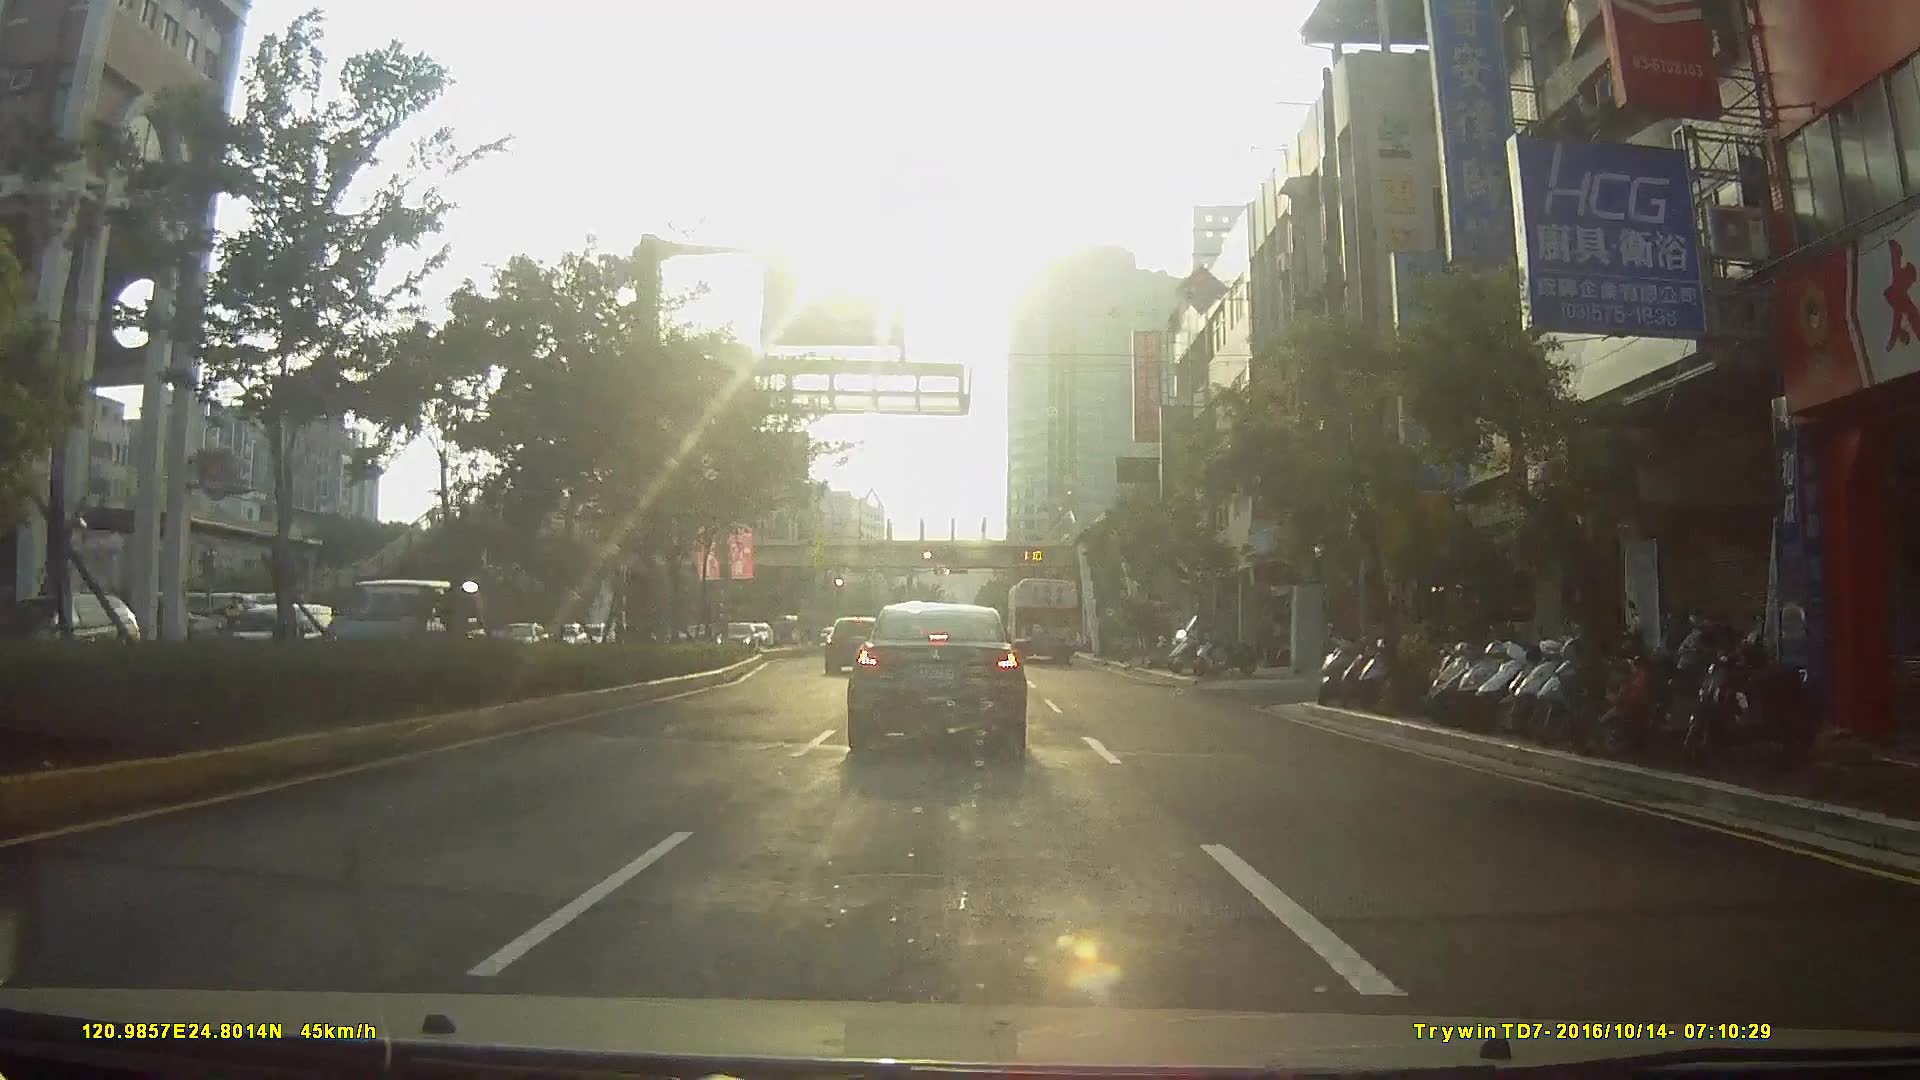vehicle: (845, 597, 1029, 760), (315, 578, 484, 691), (7, 589, 135, 669), (1005, 572, 1081, 663), (822, 615, 886, 676), (711, 622, 756, 659)
